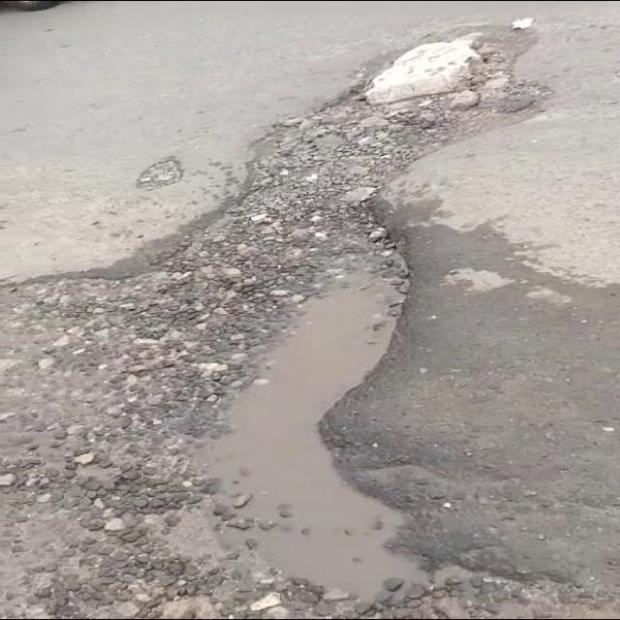lubang: (0, 27, 552, 616), (136, 156, 183, 190)
